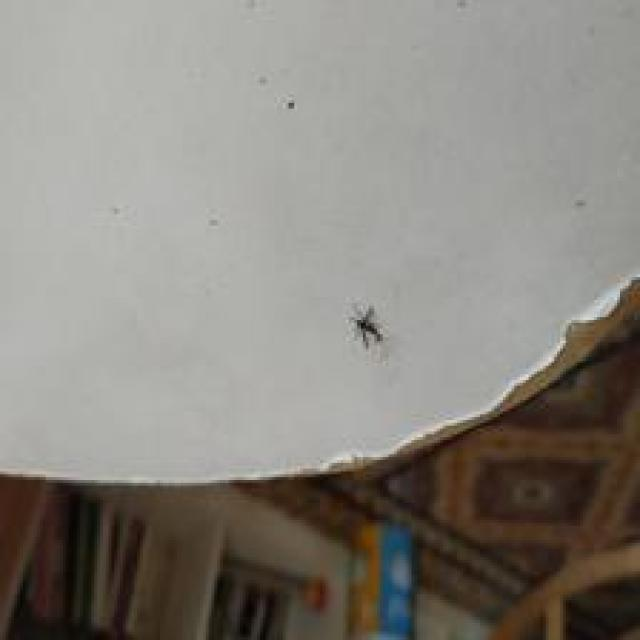Aedes albopictus: (347, 303, 384, 348)
